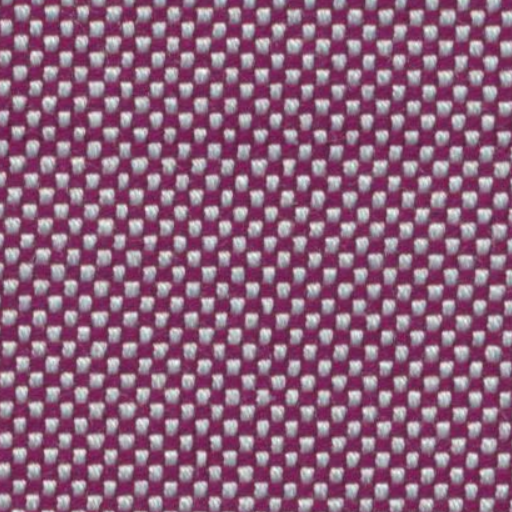TuoSha: (16, 82, 493, 179)
